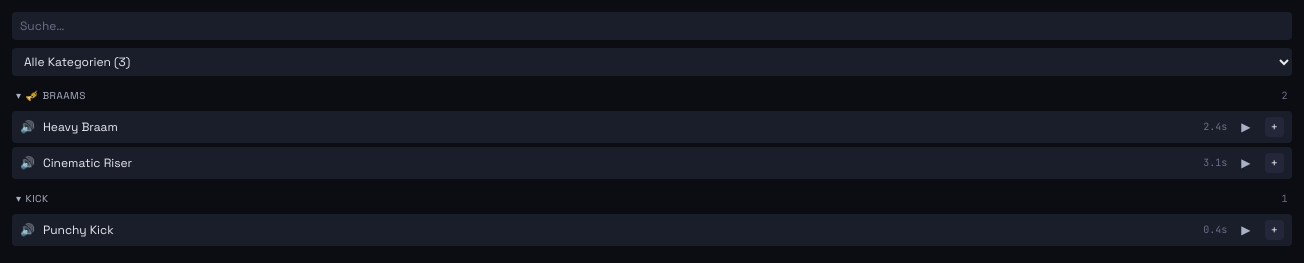
it: SoundLibrary › search filters by tag
In the search field with placeholder "Suche…": (652, 26) top-left (12, 12), bottom-right (1292, 40), type "punchy"
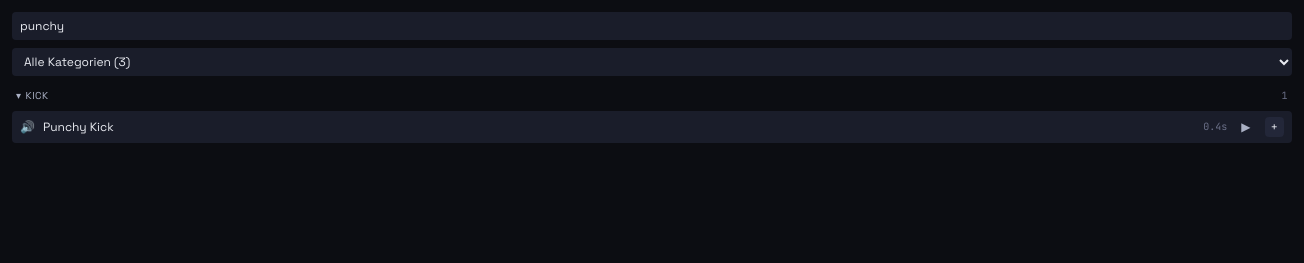
Expected: the text "Punchy Kick" is shown, top-left (43, 119), bottom-right (114, 135)
Expected: the text "Heavy Braam" is gone
